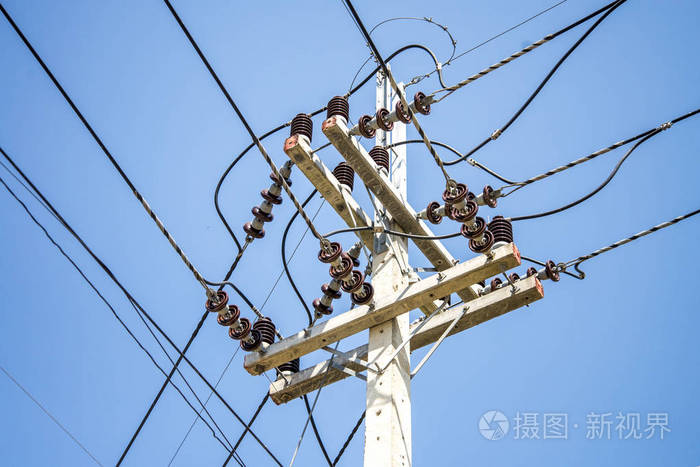insulator: (201, 286, 264, 351), (316, 240, 375, 305), (351, 89, 434, 135), (446, 183, 495, 253), (244, 171, 293, 240), (425, 187, 503, 222), (487, 262, 556, 289)
